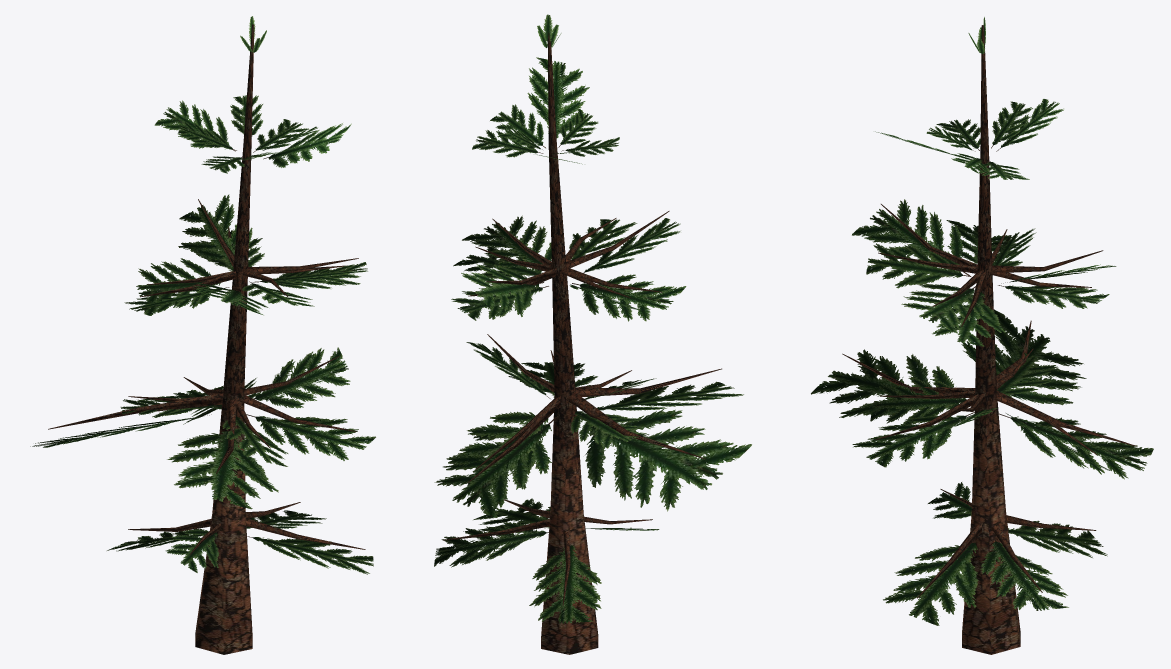
File: pine-large-lite.glb
3 renders of one model, left to right at view 1: azimuth 30°, elevation 25°; view 2: azimuth 150°, elevation 25°; view 3: azimuth 270°, elevation 25°, orthographic. The views are drawn at different scales.
Visible parts, largest first — view 1: pine_large_lite; view 2: pine_large_lite; view 3: pine_large_lite.
Boxes of the visible parts, box(x1,y1,x2,y2) form: pine_large_lite: box(30, 16, 375, 654); pine_large_lite: box(434, 14, 751, 654); pine_large_lite: box(811, 17, 1153, 654).
Bounding box in the file's own units: 8.31 × 15.55 × 8.06.
Materials: 1 (1 with a texture image).
